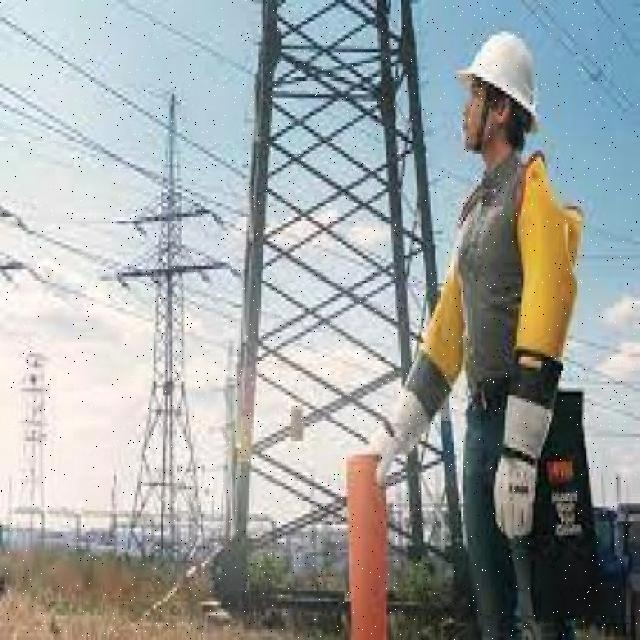Hard_hat: (454, 31, 545, 110)
